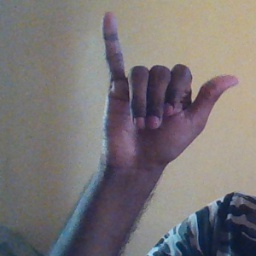J: (96, 9, 239, 165)
